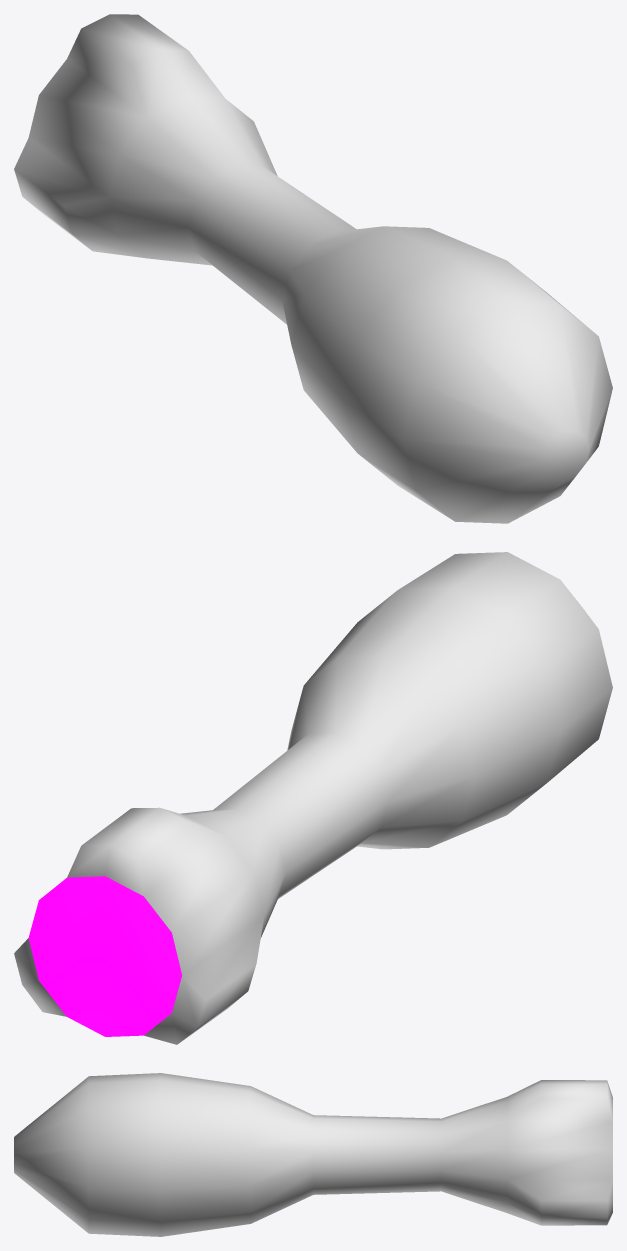
The model's file is missel mecha marve.fbx.
The picture shows the model from 3 angles, top to bottom: view 1: azimuth 30°, elevation 25°; view 2: azimuth 150°, elevation 25°; view 3: azimuth 270°, elevation 25°; orthographic projection. The views are drawn at different scales.
Parts seen in each view (by area): view 1: misseis pasrados; view 2: misseis pasrados; view 3: misseis pasrados.
Part boxes in pixels (<box>): misseis pasrados: <box>14,14,612,523</box>; misseis pasrados: <box>14,552,612,1044</box>; misseis pasrados: <box>14,1073,612,1236</box>.
Size of the model in its own units: 0.2823 by 0.2823 by 1.03.
